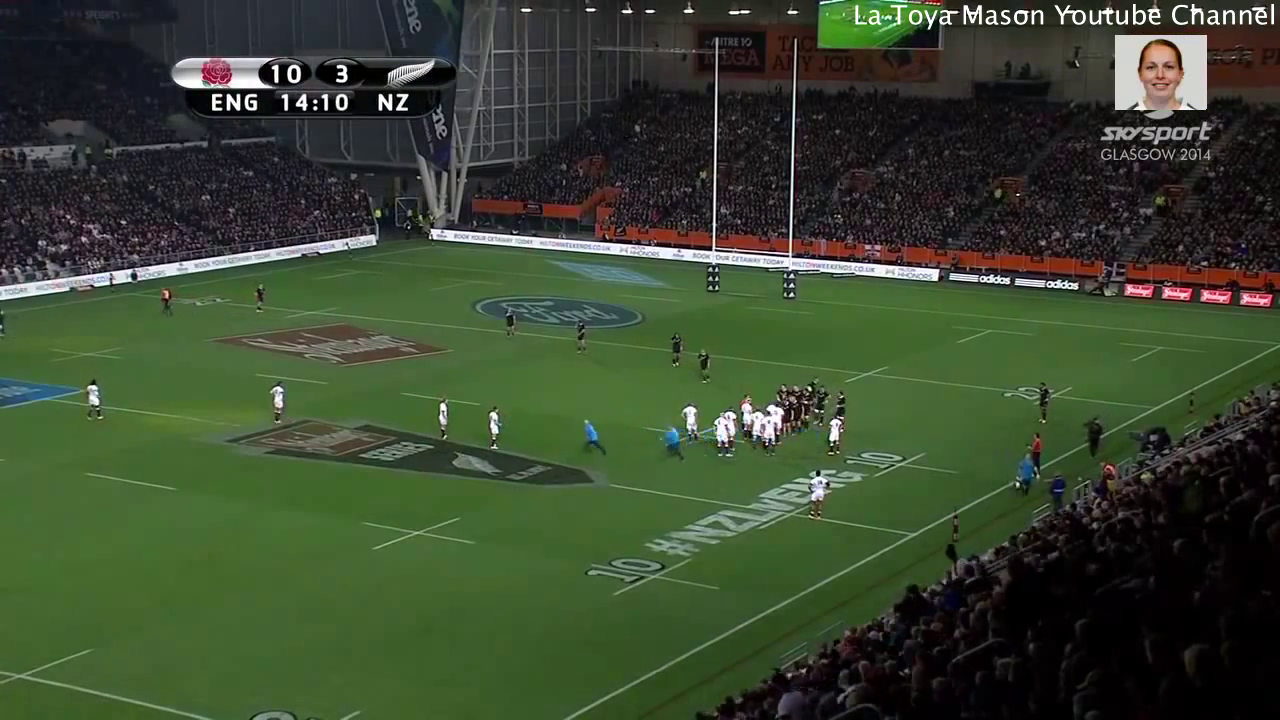10_metre: (574, 542, 723, 607), (352, 507, 480, 561), (839, 439, 965, 487), (639, 416, 754, 451), (40, 336, 133, 370)
player: (575, 412, 621, 460), (480, 397, 511, 462), (653, 419, 690, 469), (803, 457, 830, 522), (707, 409, 735, 462), (433, 395, 461, 446), (567, 311, 594, 360), (81, 376, 106, 428), (823, 413, 848, 461), (263, 372, 285, 426), (1033, 380, 1055, 431), (678, 397, 701, 443), (153, 280, 178, 322), (761, 410, 780, 461), (811, 383, 832, 429), (736, 394, 754, 447), (664, 328, 687, 369), (689, 344, 712, 383), (497, 303, 518, 344), (832, 388, 853, 428), (245, 279, 267, 317), (788, 393, 805, 439), (763, 401, 785, 434), (795, 383, 817, 415), (722, 401, 739, 439), (752, 404, 764, 448), (773, 382, 790, 406), (789, 380, 803, 396), (808, 370, 821, 387)
post: (696, 29, 803, 305)
